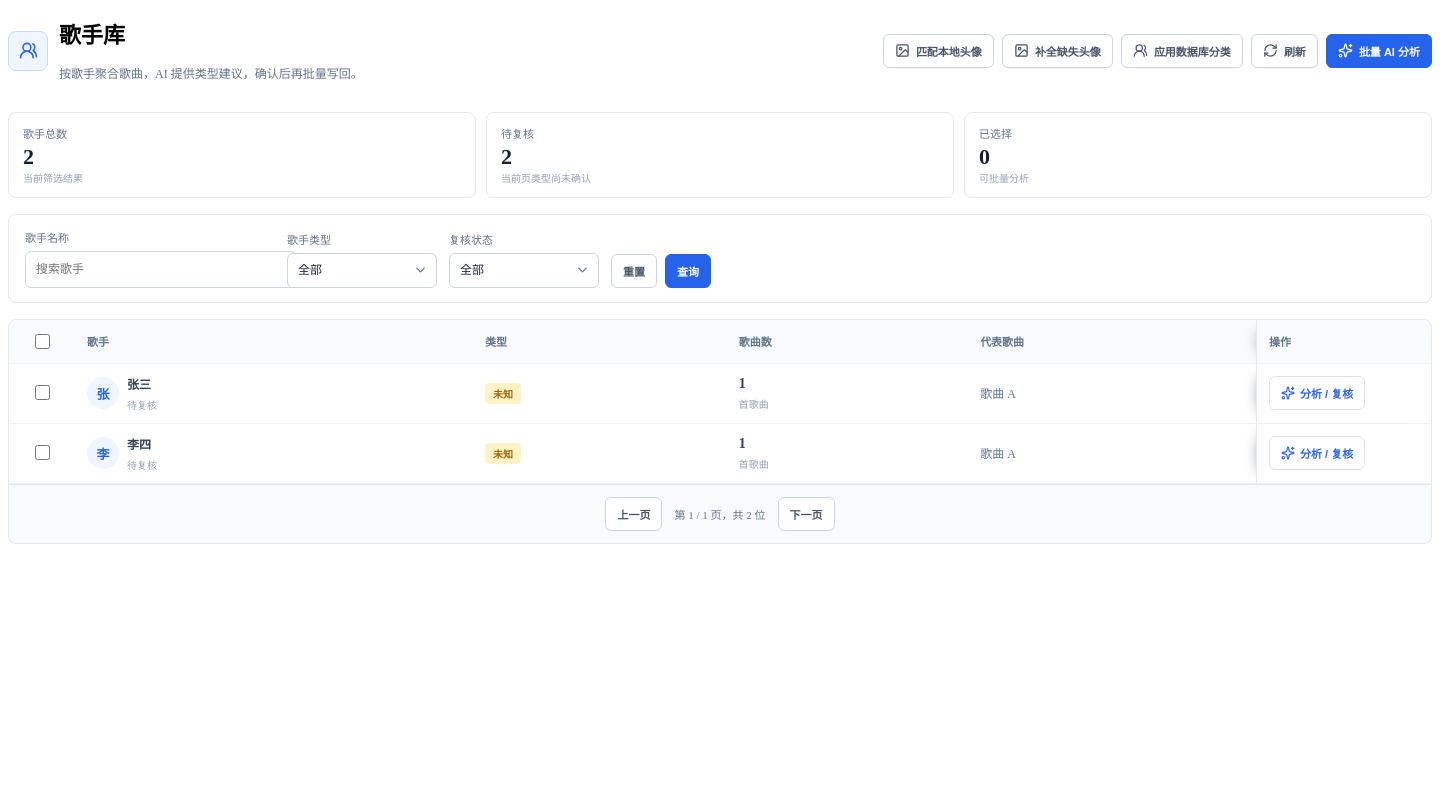
Scenario: ArtistLibraryView › uses an AI suggestion, permits manual gender selection, and saves the reviewed result
Click the button "分析 / 复核" in the row of "张三". click: [1317, 393]
box: top-left (1269, 376), bottom-right (1365, 410)
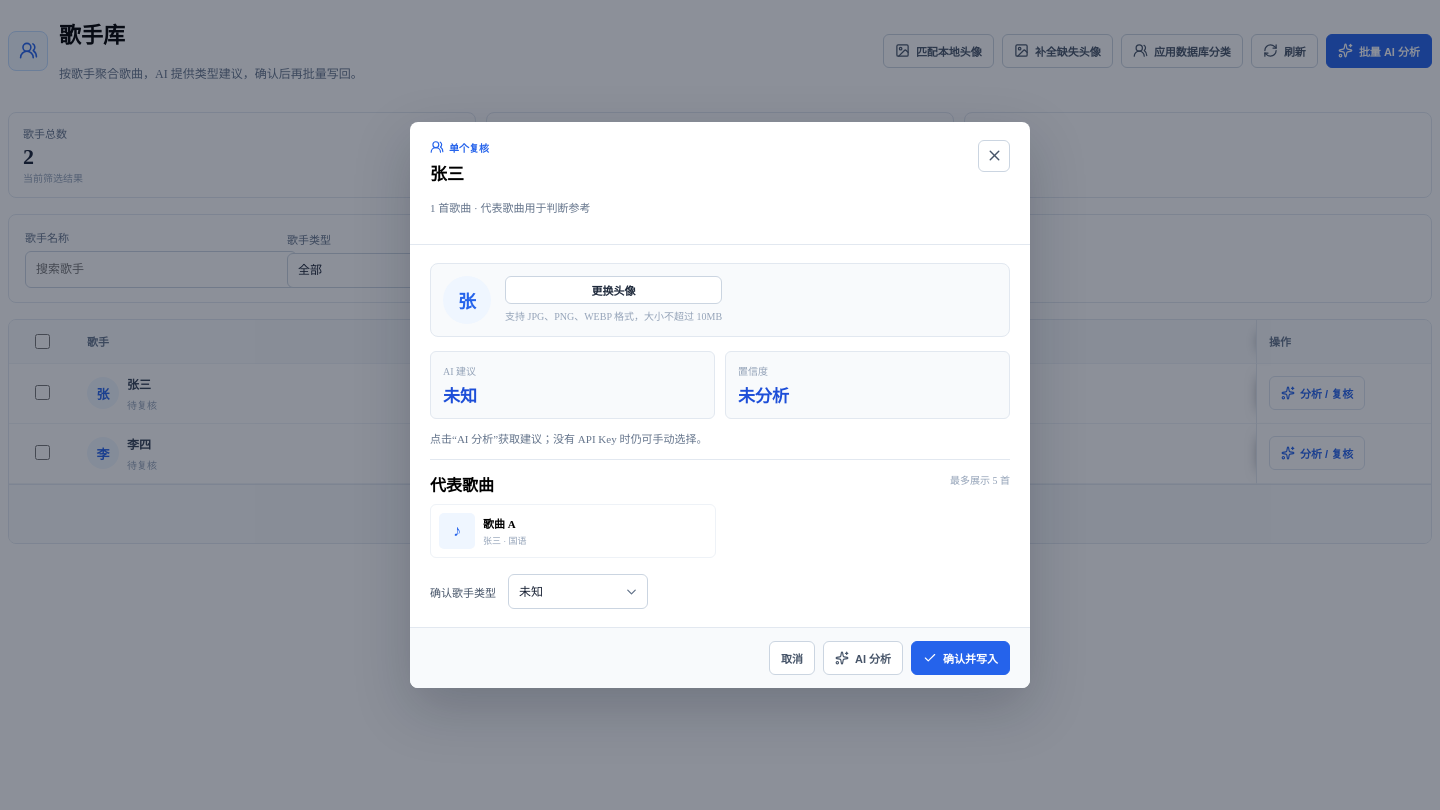
Click the button with class "action-button" showing "AI 分析". click: [863, 658]
box: top-left (823, 641), bottom-right (903, 675)
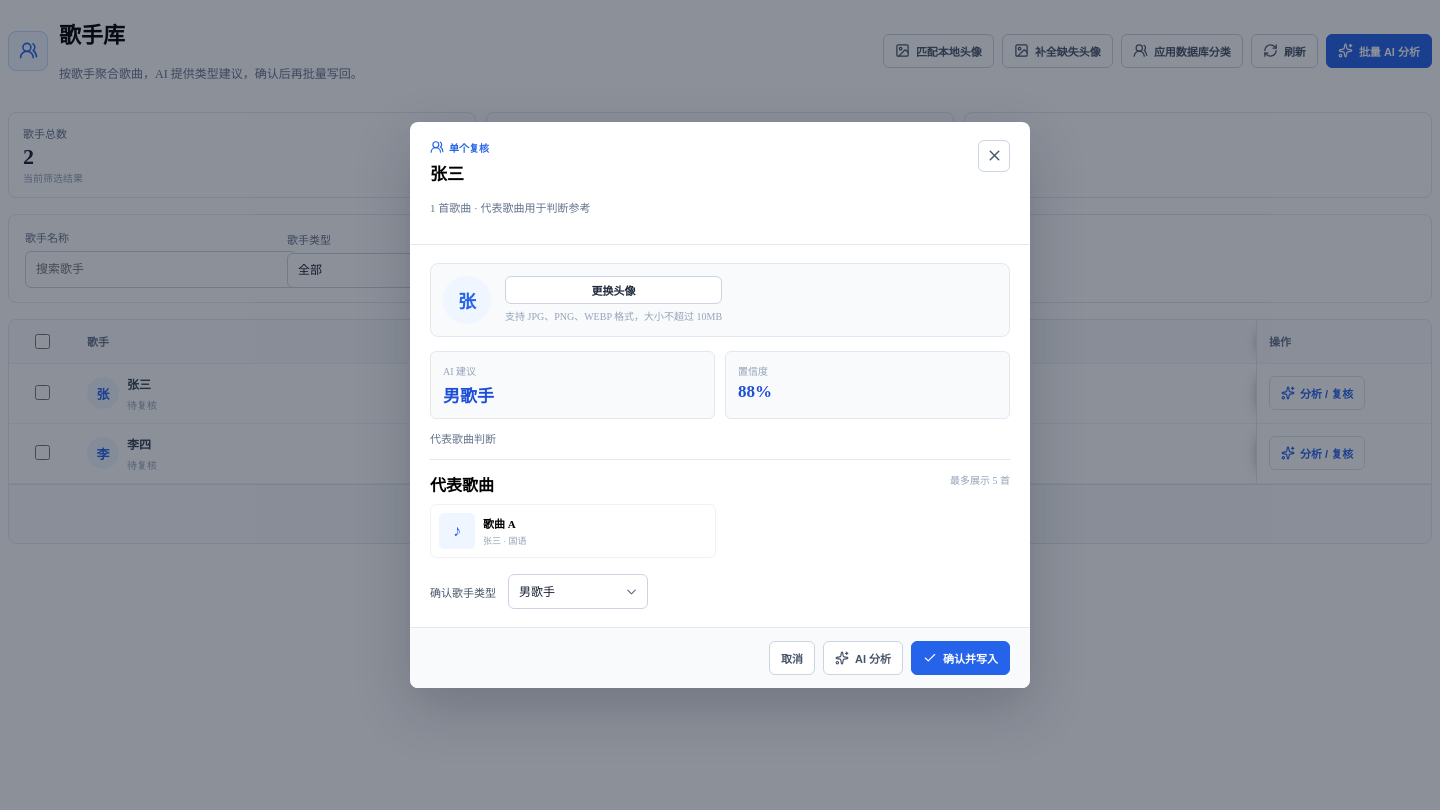
Now the text "88%" is shown, box top-left (738, 382), bottom-right (772, 401)
Now the text "代表歌曲判断" is shown, box top-left (430, 433), bottom-right (496, 445)
Select "女歌手" in the dropdown labelled "确认歌手类型". click: [578, 592]
box: top-left (508, 574), bottom-right (648, 609)
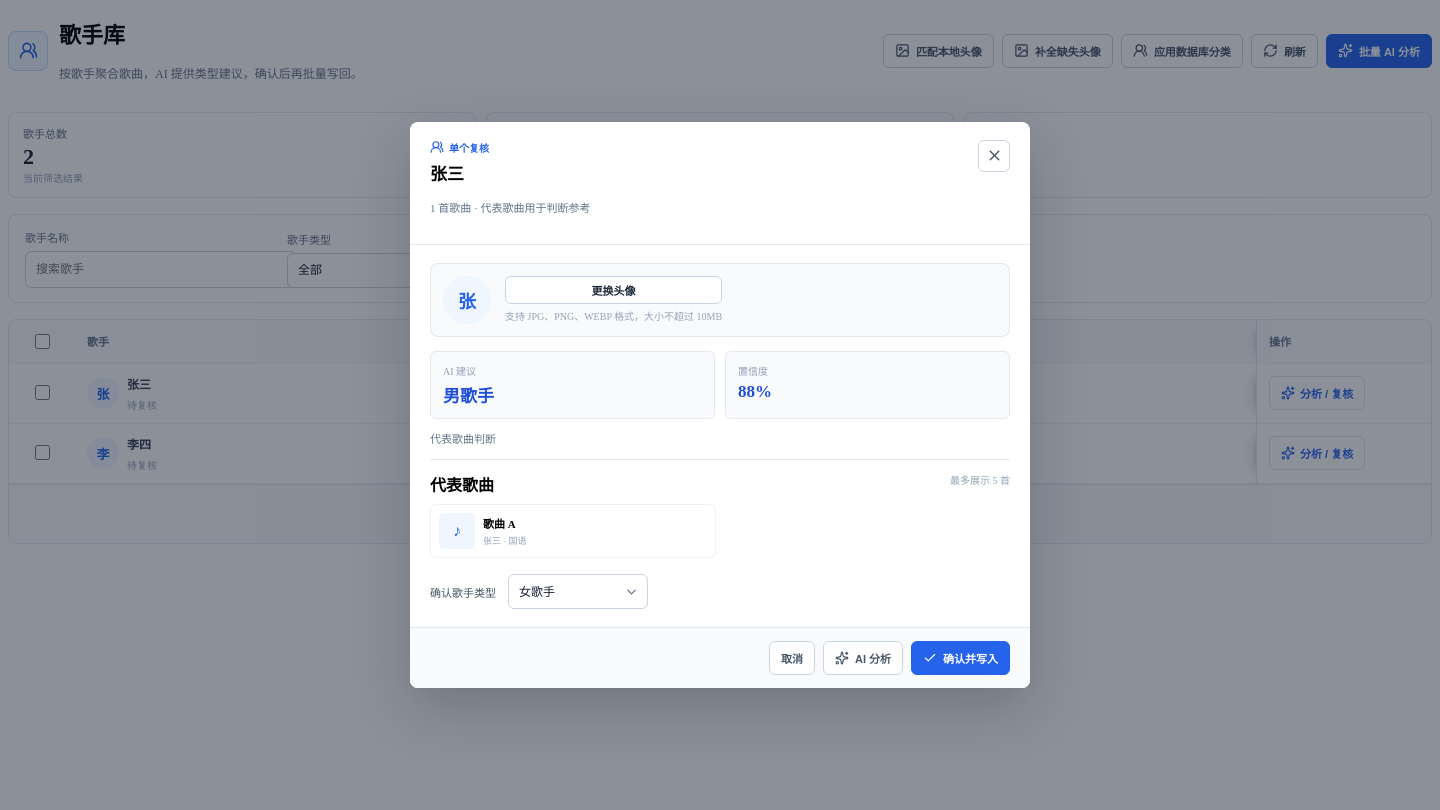
Click the button with class "action-button" showing "确认并写入". click: [960, 658]
box: top-left (911, 641), bottom-right (1010, 675)
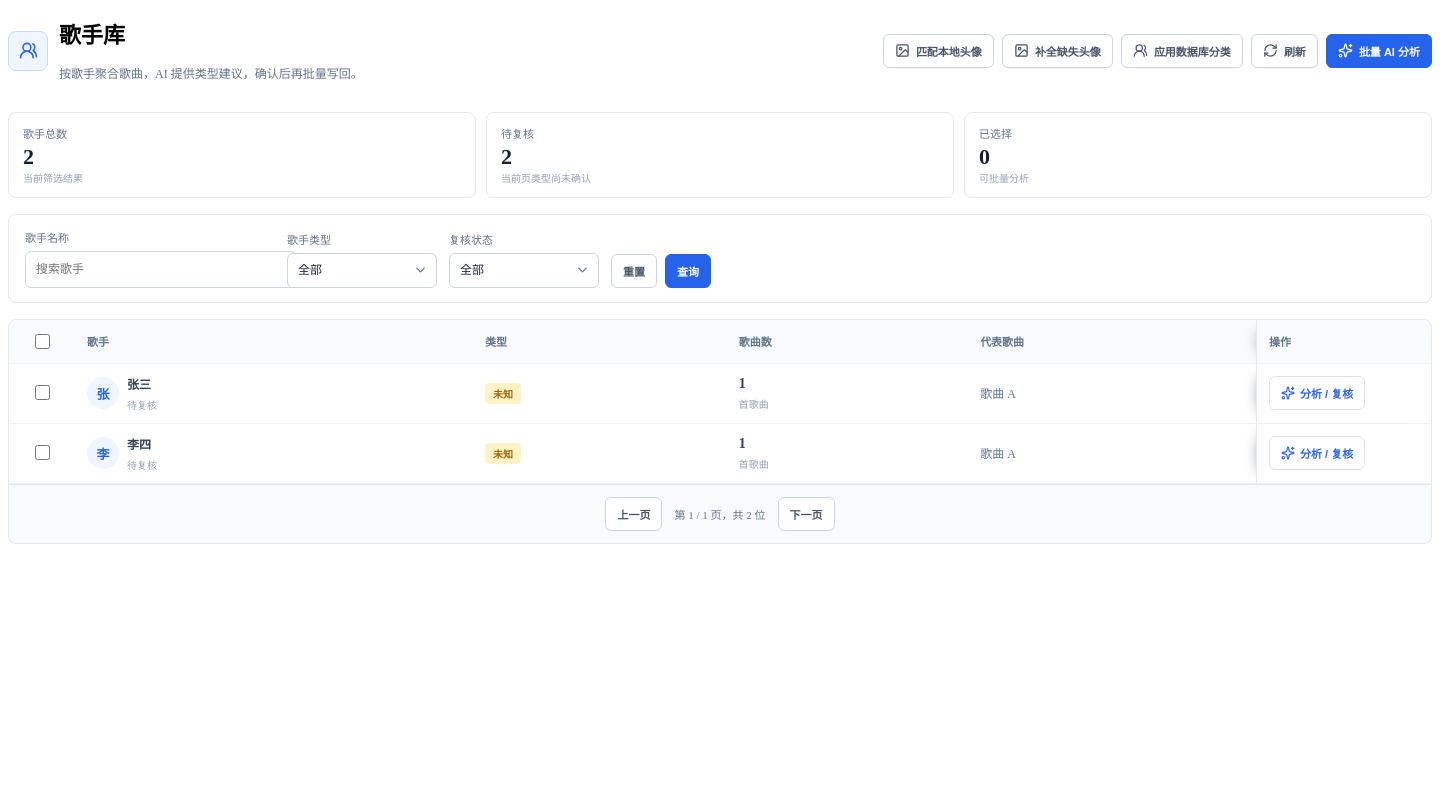
Now the dialog with class "review-modal" is gone
